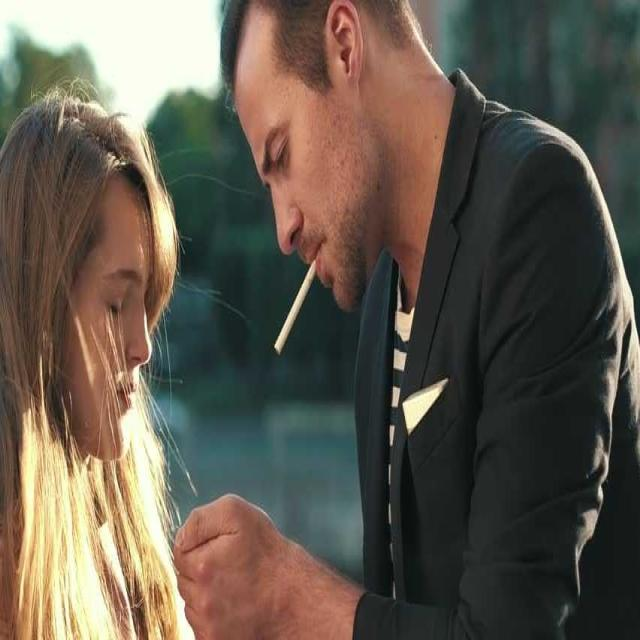Smooking: (259, 260, 331, 361)
